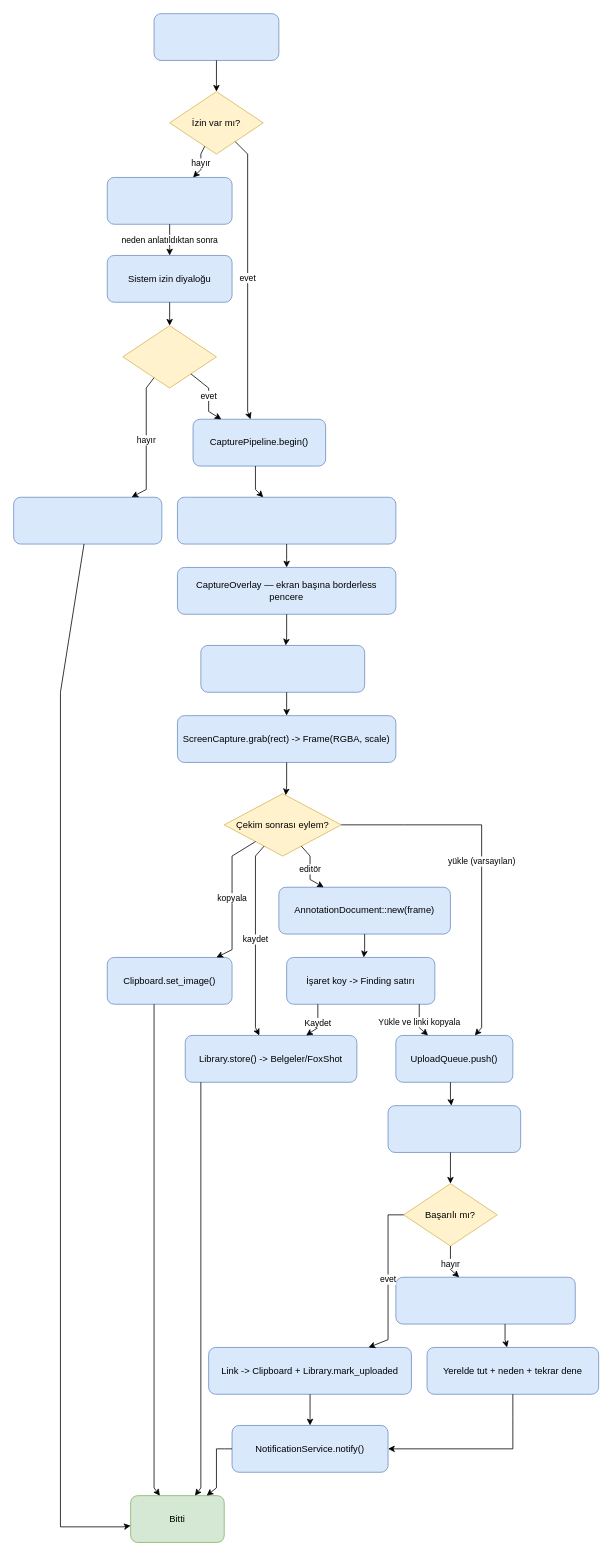
Image size: 612x1556. Some labels were removed from this diagram. The shapes that lost their labels are listed below. From the top down, each one's centre as x and y in pixels, then its label:
pixel 216 36: Global kısayol ⌘⇧4
pixel 169 200: İzin sihirbazı adımı
pixel 169 356: Verildi mi?
pixel 87 520: Sadece-odak uyarısı + dur
pixel 286 520: ScreenService.enumerate() — karışık DPI normalize
pixel 282 668: Bölge / pencere / ekran seçimi
pixel 454 1128: UploadTarget.upload()
pixel 485 1300: Hatayı sınıflandır: auth / net / boyut
